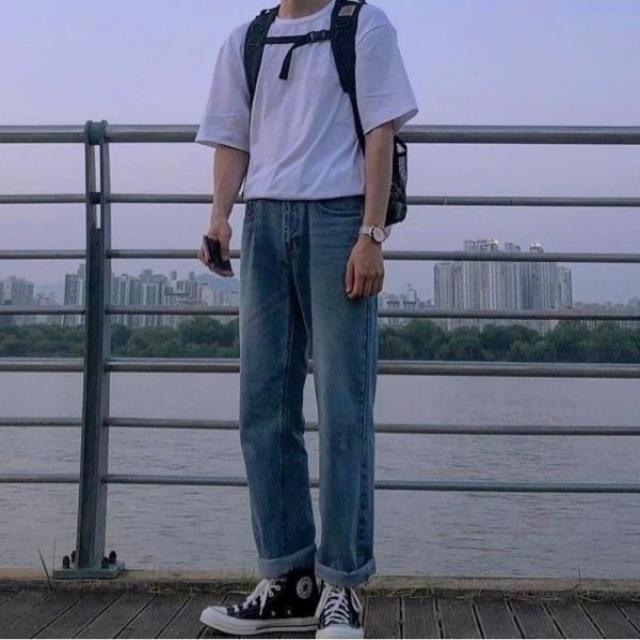denimpants: (235, 196, 378, 590)
shortsleeve: (197, 5, 421, 204)
